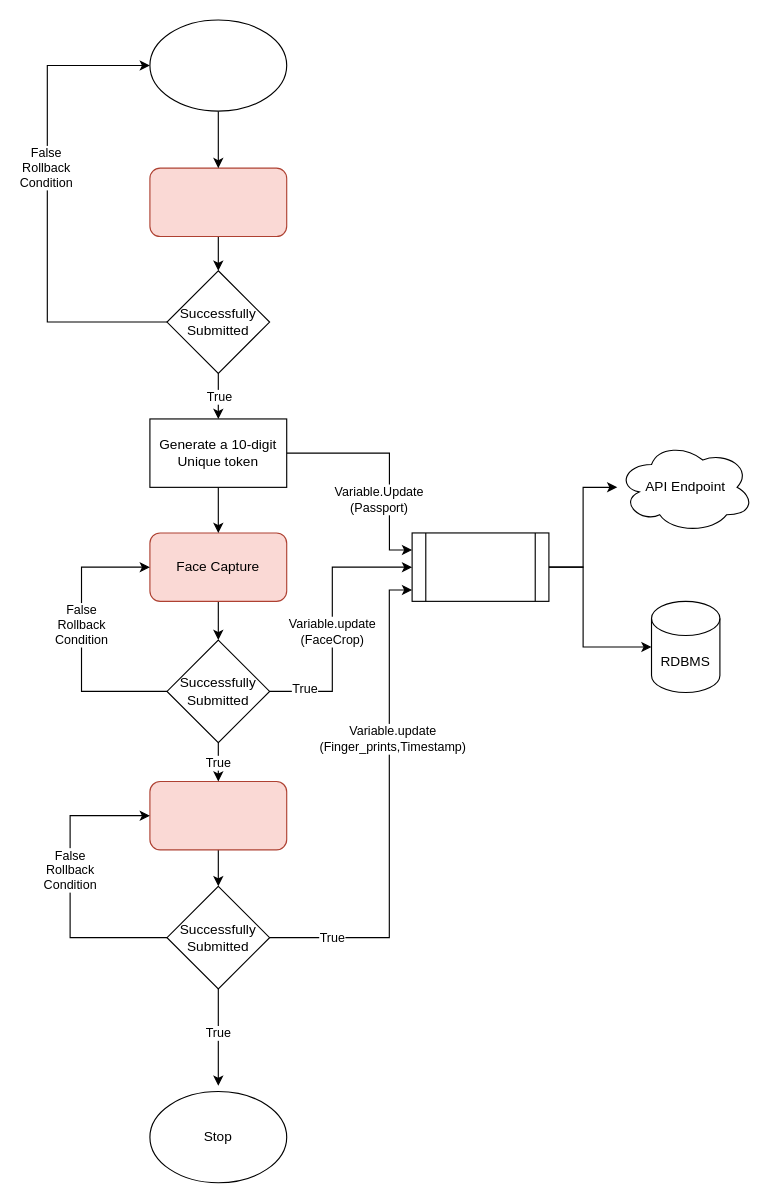
The diagram is 774 pixels wide and 1203 high, and some of its shapes have lost their labels. The centre of each missing label's shape, as x and y in pixels:
"Passport Capture" goes at [218,202].
"Start" goes at [218,65].
"Temp Storage Variable" goes at [480,566].
"Thumb Capture" goes at [218,815].
